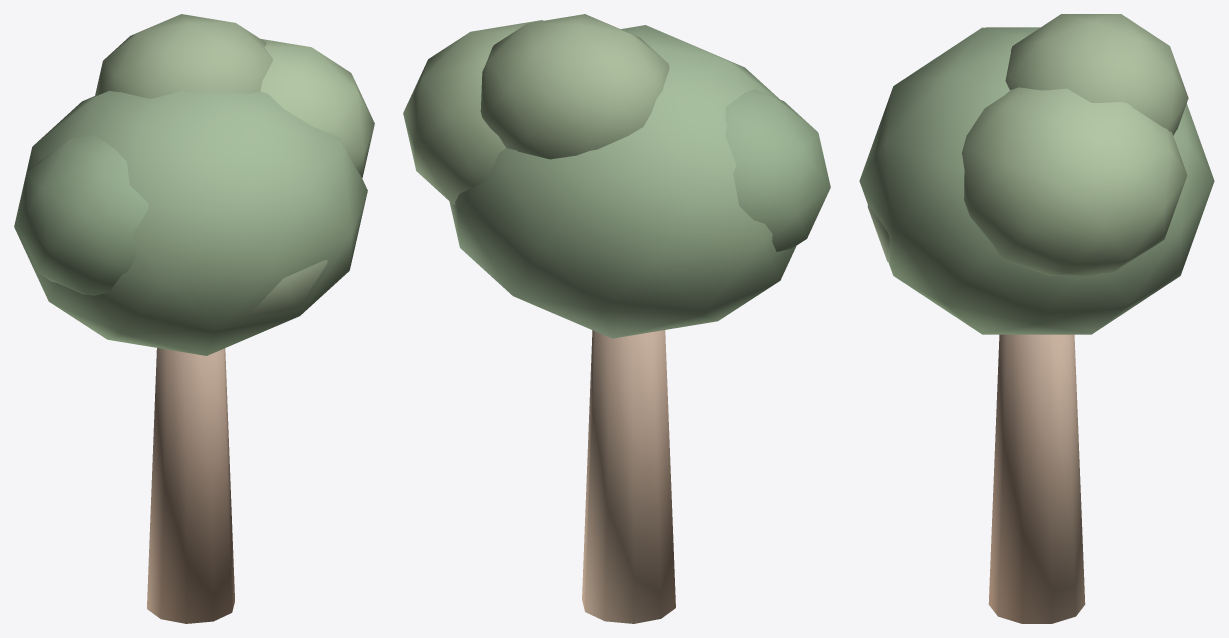
Rendered from tree_round.glb.
The picture shows the model from 3 angles, left to right: view 1: azimuth 30°, elevation 25°; view 2: azimuth 150°, elevation 25°; view 3: azimuth 270°, elevation 25°; orthographic projection. The views are drawn at different scales.
Visible parts, largest first — view 1: Canopy, Trunk; view 2: Canopy, Trunk; view 3: Canopy, Trunk.
Boxes of the visible parts, <box> form: Canopy: <box>14,14,374,355</box>; Trunk: <box>147,348,234,623</box>; Canopy: <box>403,14,830,338</box>; Trunk: <box>582,330,675,623</box>; Canopy: <box>859,14,1214,334</box>; Trunk: <box>988,334,1085,623</box>.
Size of the model in its own units: 1.42 by 2.18 by 1.18.
